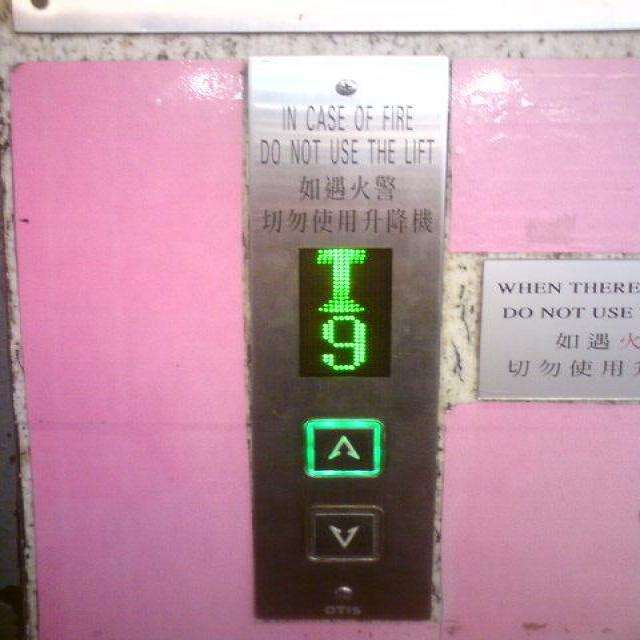down: (295, 500, 393, 570)
led: (293, 244, 396, 380)
up: (296, 415, 391, 483)
